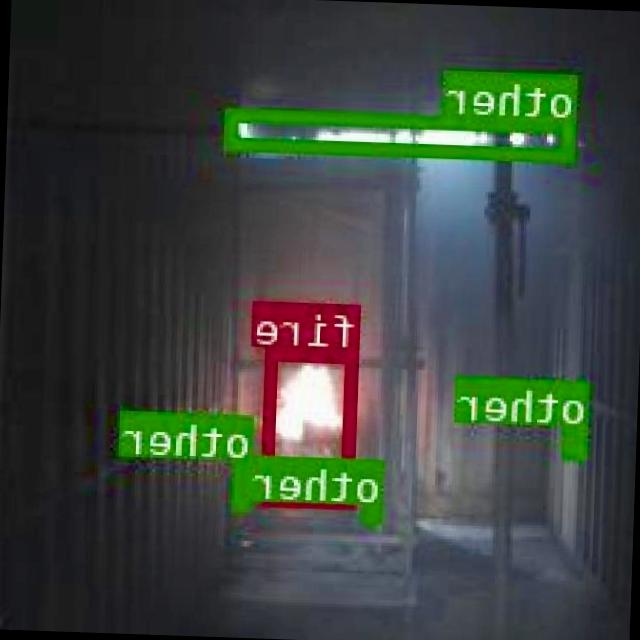fire: (263, 346, 360, 506)
